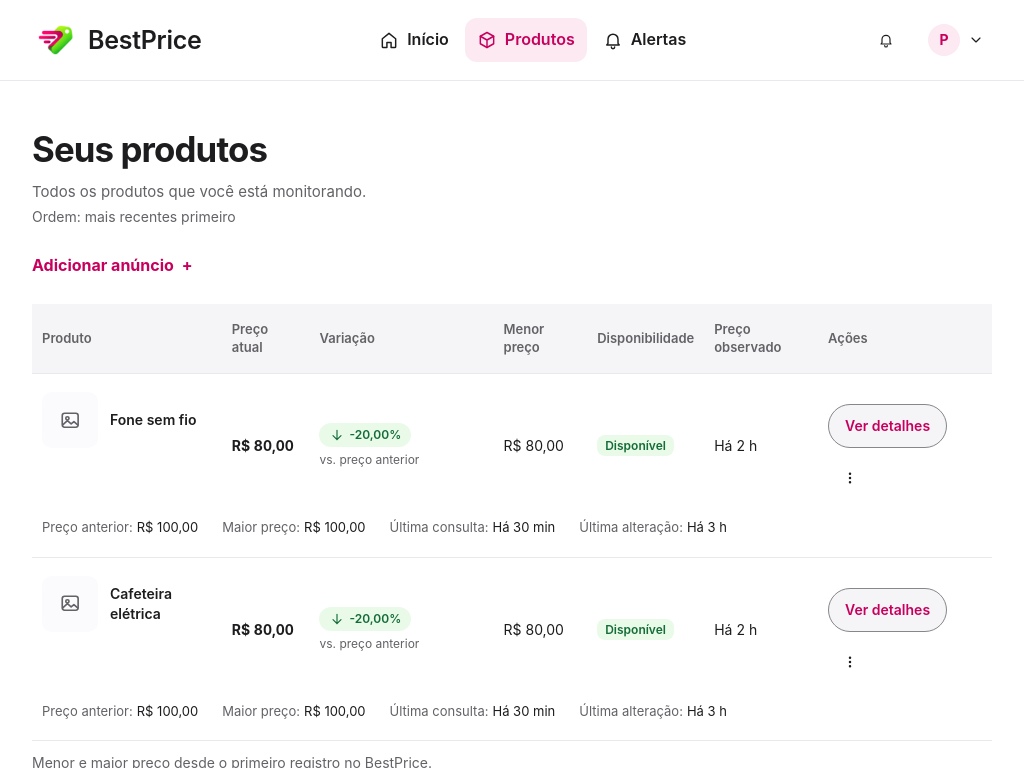
Test case: parar de monitorar no detalhe › cancela por outside sem sair do detalhe
The image size is (1024, 768).
Expected: the navigation bar named "Principal" is shown, [367,18,698,62]
Click the link named "Ver detalhes de Fone sem fio": (888, 426) [828,404,947,448]
(page scrolled)
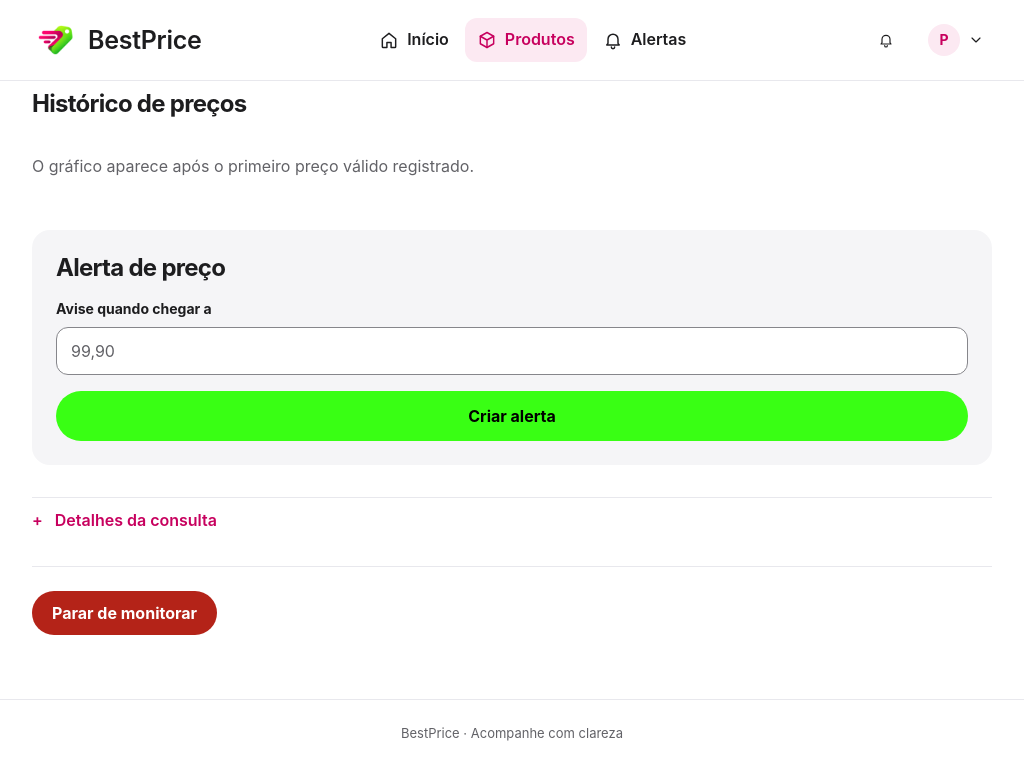
Click the button "Parar de monitorar": (125, 613) [32,591,217,635]
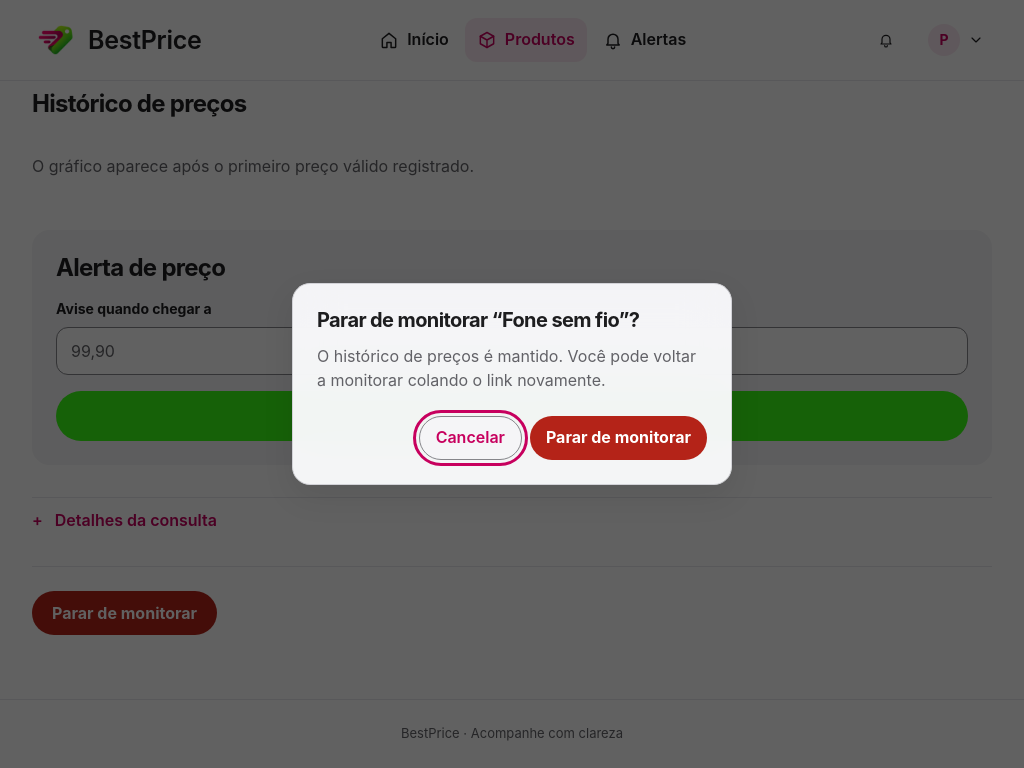
Click the element with test id "confirm-backdrop": (61, 384) [0,0,1023,767]
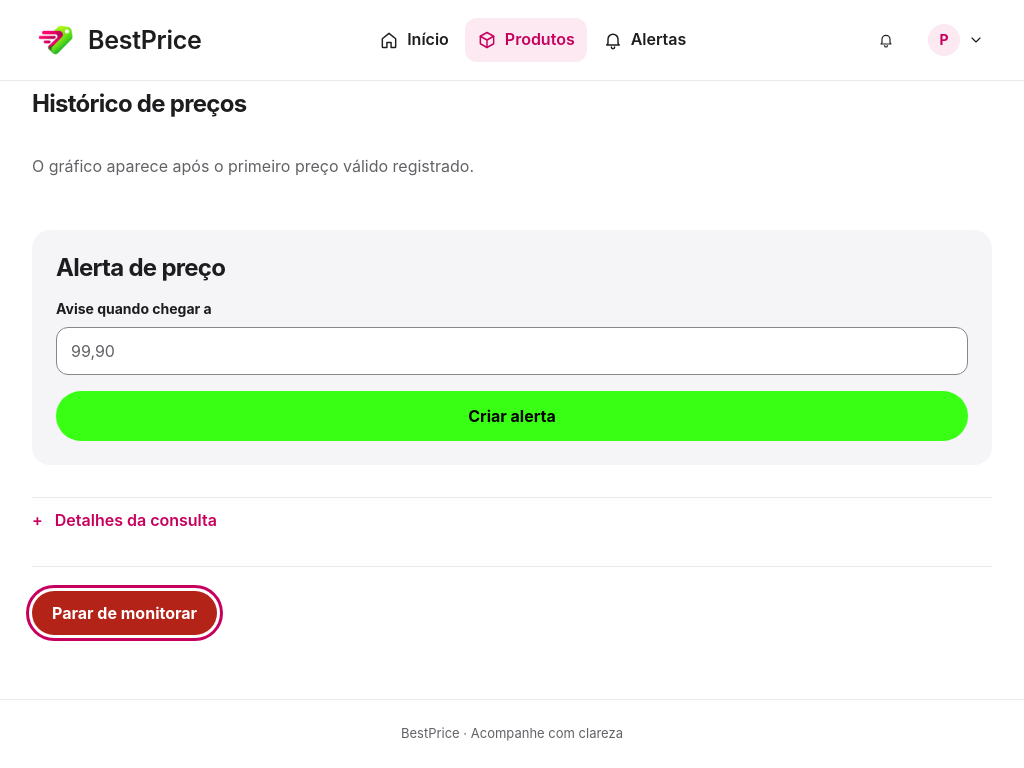
Result: the dialog is gone
